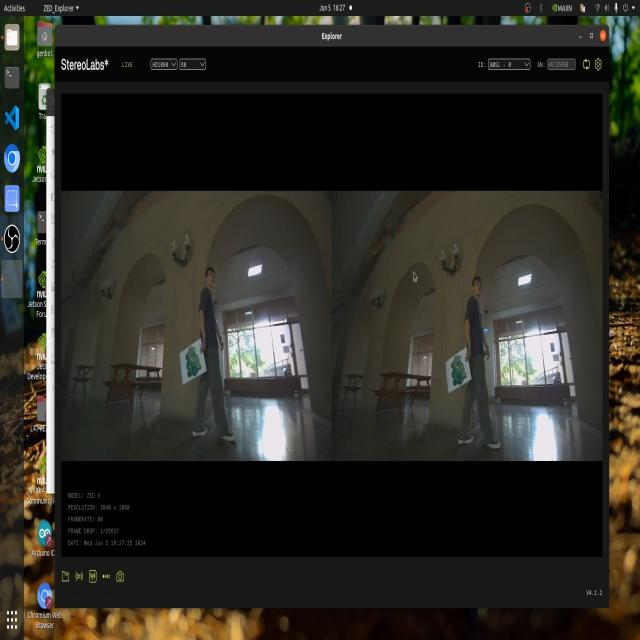green: (441, 348, 469, 386), (176, 346, 203, 378)
